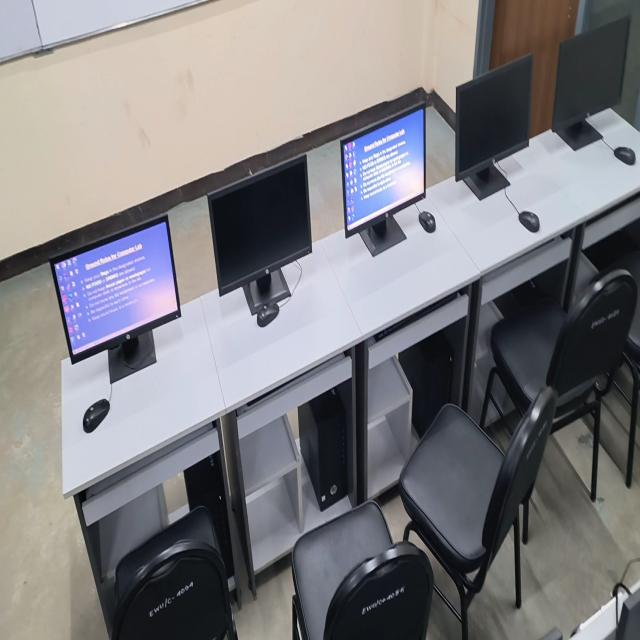Chair: (415, 410, 546, 586), (498, 275, 626, 425), (293, 508, 407, 640), (114, 512, 216, 640)
Cpu: (298, 394, 348, 506), (401, 348, 456, 407), (182, 471, 227, 513)
Monitor: (65, 212, 179, 364), (208, 152, 314, 292), (336, 95, 426, 244), (449, 55, 533, 188), (550, 17, 630, 133)
Mouse: (80, 394, 112, 435), (254, 300, 281, 328), (516, 207, 541, 237), (612, 143, 638, 170), (417, 208, 439, 237)
